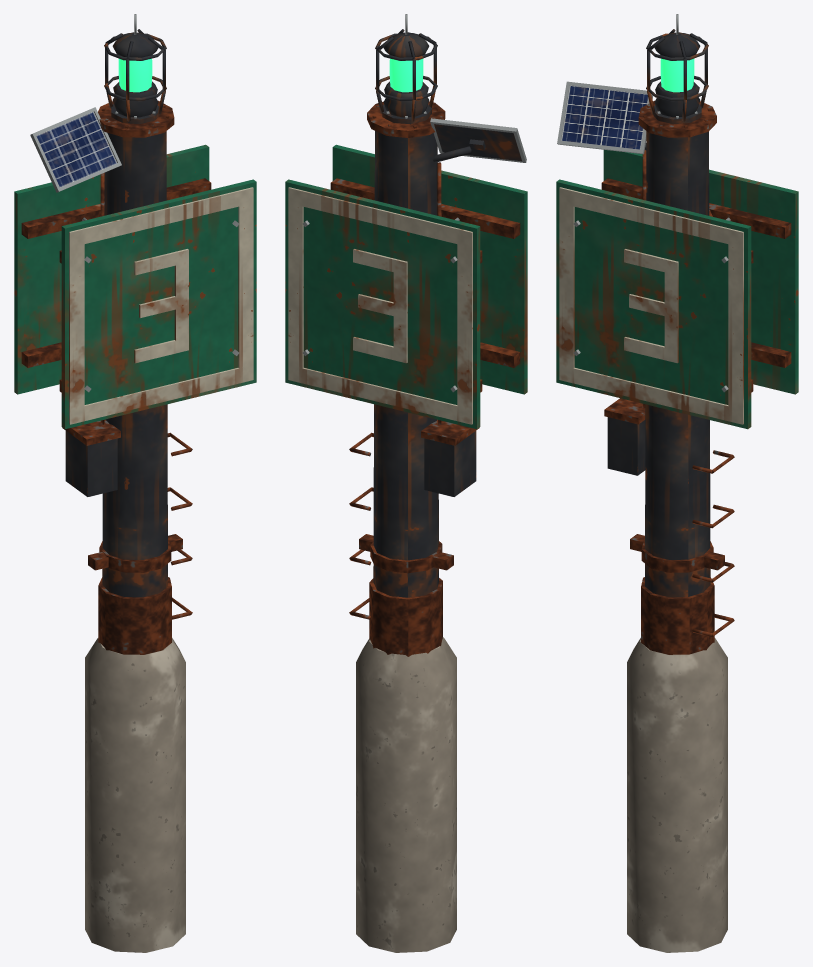
The model's file is marker_channel_port.glb.
3 renders of one model, left to right at view 1: azimuth 30°, elevation 25°; view 2: azimuth 150°, elevation 25°; view 3: azimuth 330°, elevation 25°, orthographic.
Visible parts, largest first — view 1: marker_channel_port; view 2: marker_channel_port; view 3: marker_channel_port.
Boxes of the visible parts, x1,y1,x2,y2 form: marker_channel_port: (14, 14, 256, 952); marker_channel_port: (285, 14, 527, 952); marker_channel_port: (556, 14, 798, 952).
Size of the model in its own units: 1.49 by 6.4 by 0.6926.
9 materials, 6 textured.
